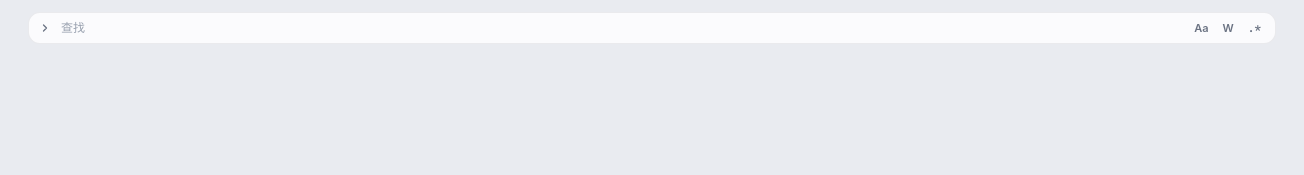
Test: WorkspaceSearchPanel › Stop 取消但保留已有结果
Type "needle" into the field with test id "workspace-search-input" at (609,28), box x1=33 y1=21 x2=1184 y2=35
Wait 260 ms
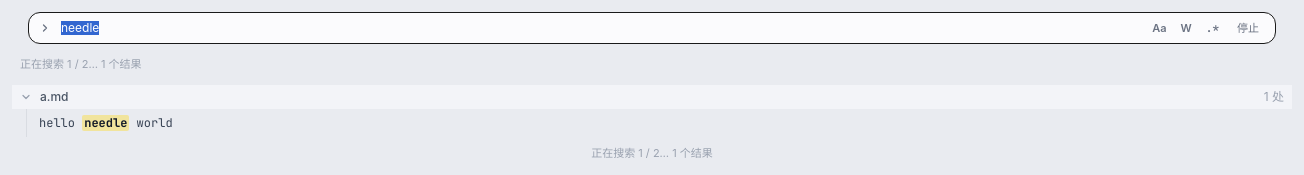
Click the button with test id "workspace-search-stop" at (1248,28), box x1=1229 y1=18 x2=1267 y2=38
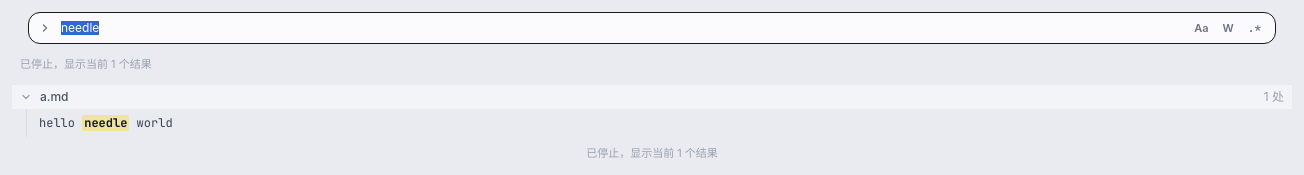
expect the text "hello needle world" is shown: met, box x1=39 y1=114 x2=173 y2=130
expect the text "已停止" is shown: met, box x1=20 y1=57 x2=152 y2=71
